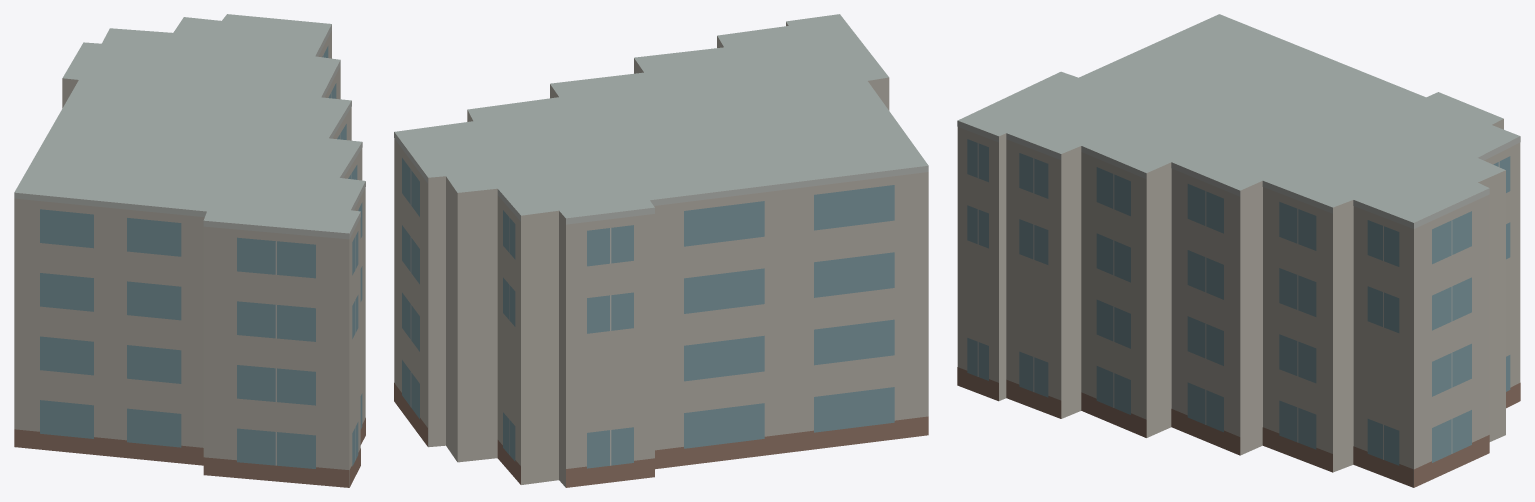
Rendered from survey-upis-32778424.glb.
The picture shows the model from 3 angles, left to right: view 1: azimuth 30°, elevation 25°; view 2: azimuth 150°, elevation 25°; view 3: azimuth 270°, elevation 25°; orthographic projection. The views are drawn at different scales.
Visible parts, largest first — view 1: survey-upis-32778424.tmp; view 2: survey-upis-32778424.tmp; view 3: survey-upis-32778424.tmp.
Boxes of the visible parts, left/top/right/bottom form: survey-upis-32778424.tmp: left=14, top=14, right=365, bottom=487; survey-upis-32778424.tmp: left=394, top=14, right=928, bottom=487; survey-upis-32778424.tmp: left=957, top=14, right=1520, bottom=487.
Bounding box in the file's own units: 17.77 × 10.5 × 20.23.
